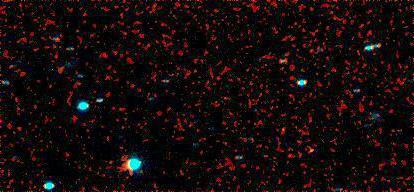star: (297, 135, 327, 165)
